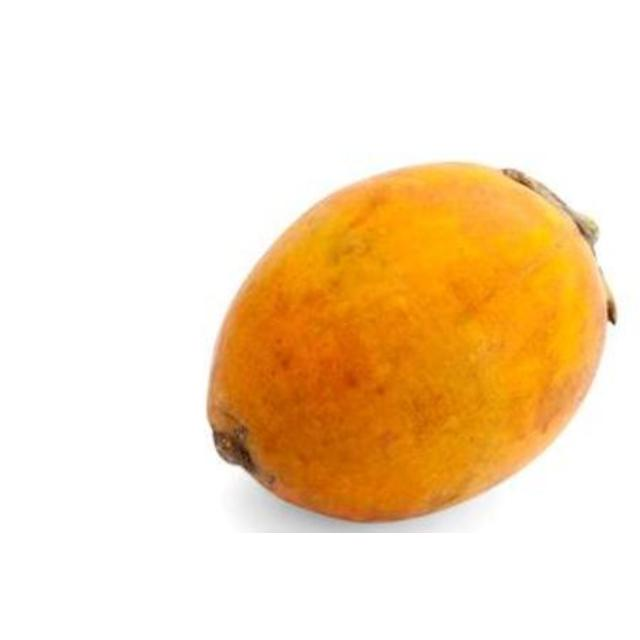good: (205, 161, 616, 524)
